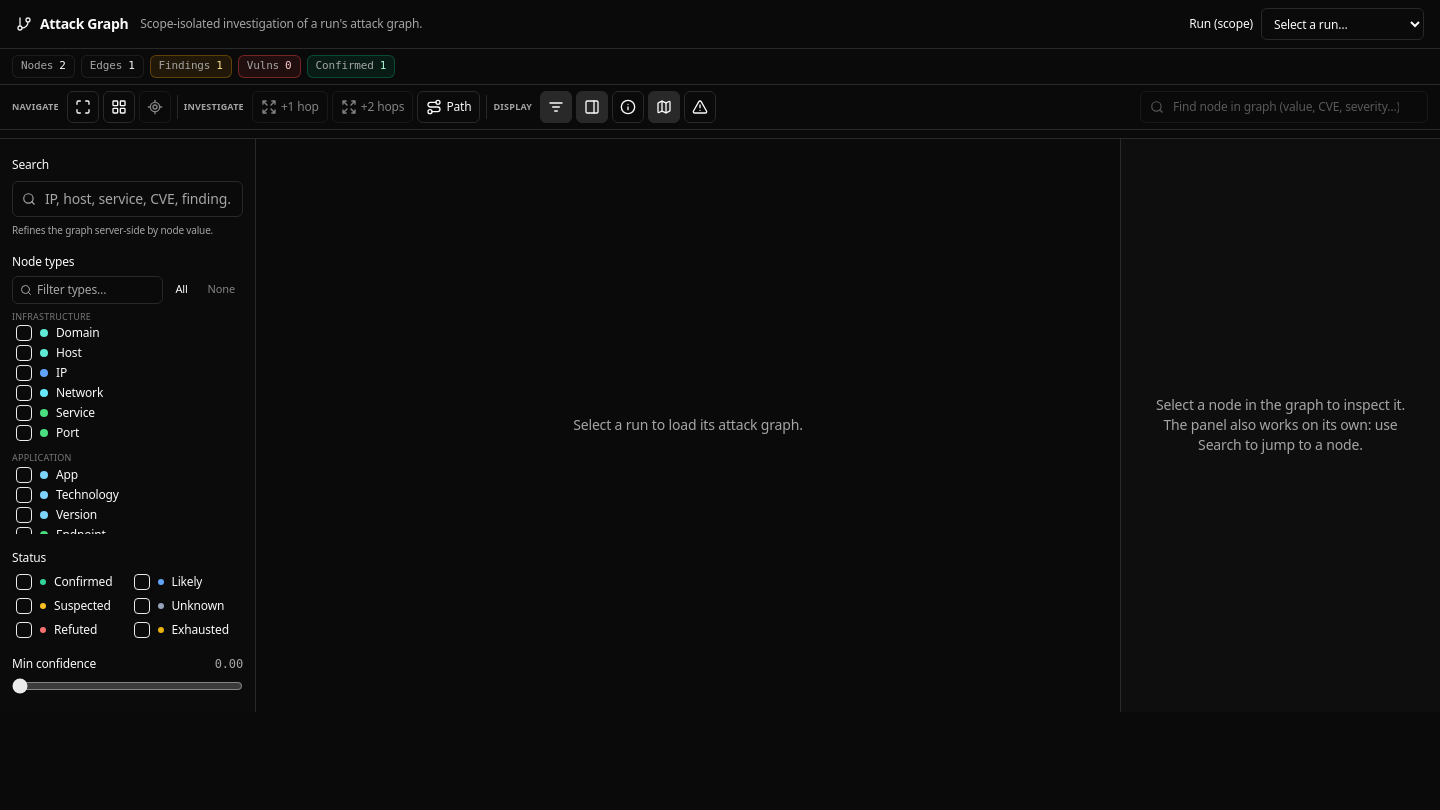
Test: AttackGraphPage › shows merge-conflict visibility when the conflicts panel is opened
Select "10.0.0.5 (10.0.0.5) — r1" in the dropdown labelled "Run (scope)" at point(1342, 24), box [1261, 8, 1424, 40]
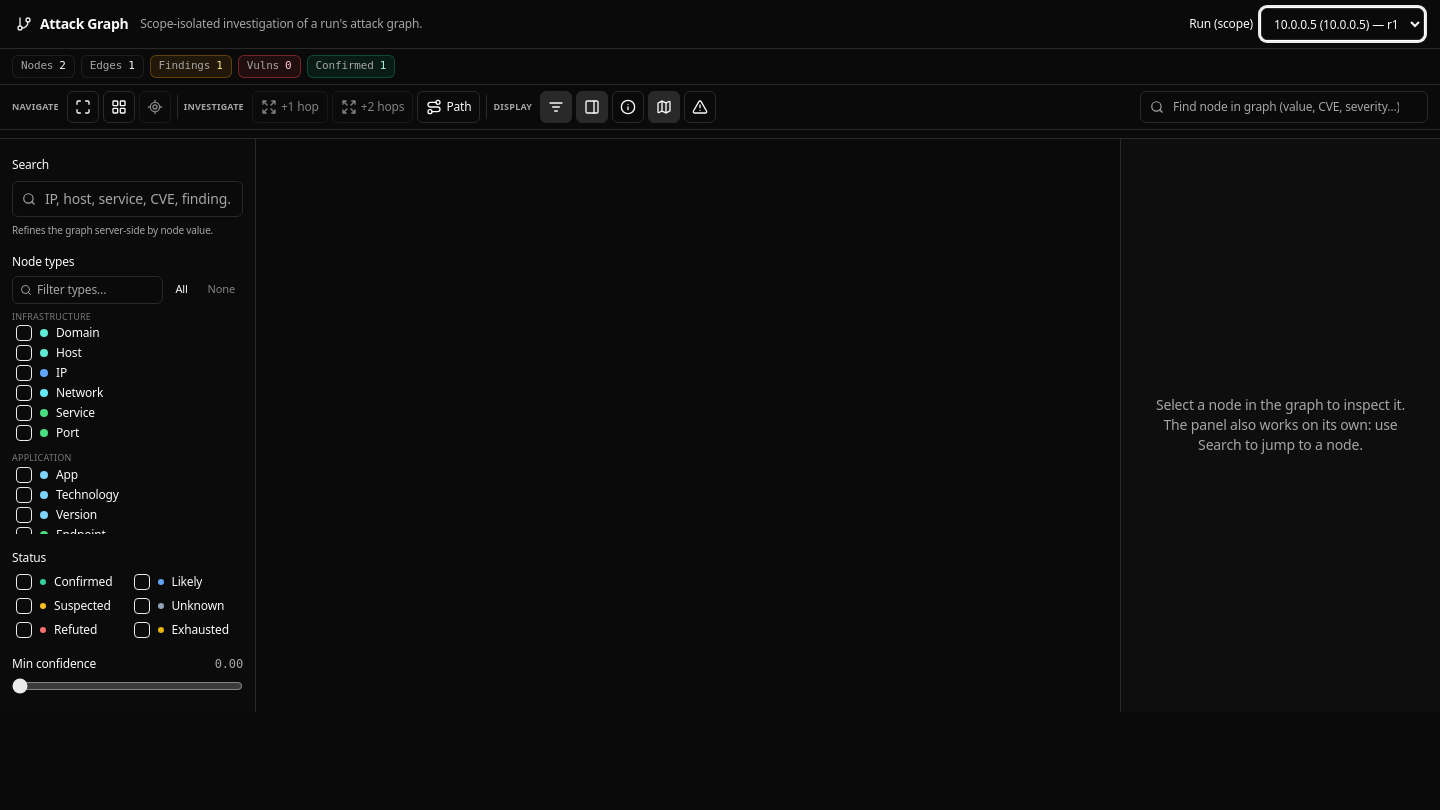
Click the button named "merge conflicts" at point(700, 106), box [684, 90, 716, 122]
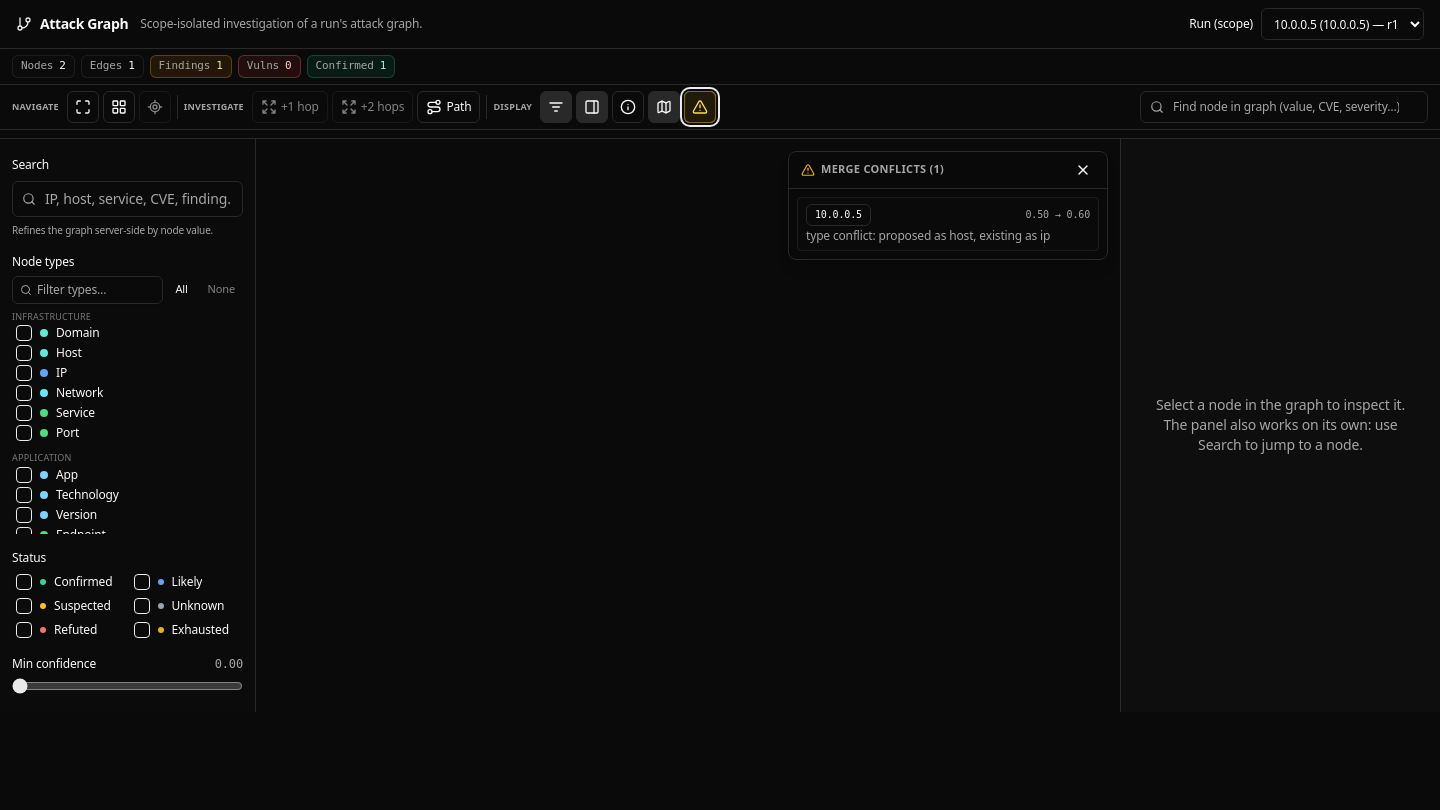
Check: the text "type conflict: proposed as host, existing as ip" is shown, box [806, 228, 1090, 244]
